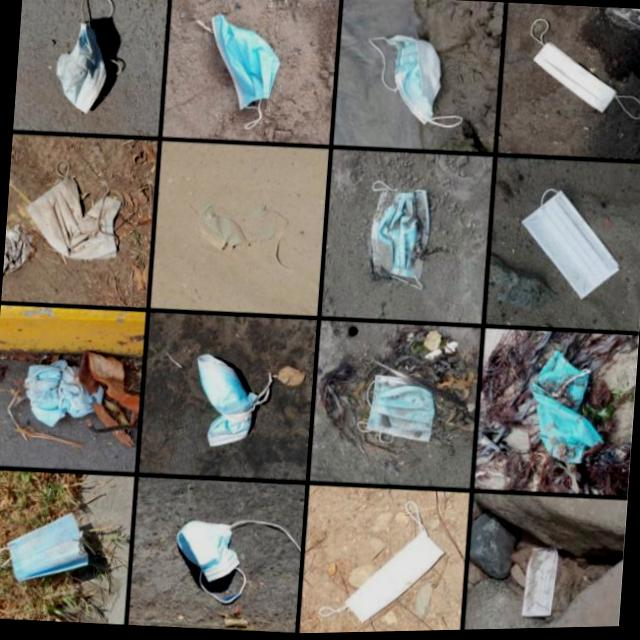Mask: (317, 493, 451, 630), (514, 186, 626, 305), (171, 513, 302, 612), (524, 17, 640, 123), (186, 12, 284, 133), (21, 154, 128, 263), (361, 31, 468, 132), (523, 348, 610, 469), (51, 0, 129, 117), (191, 351, 274, 452), (187, 196, 293, 273), (0, 504, 92, 587), (364, 179, 430, 291), (354, 372, 438, 448), (46, 356, 107, 420), (21, 361, 68, 427), (520, 544, 559, 621), (2, 221, 35, 280)
